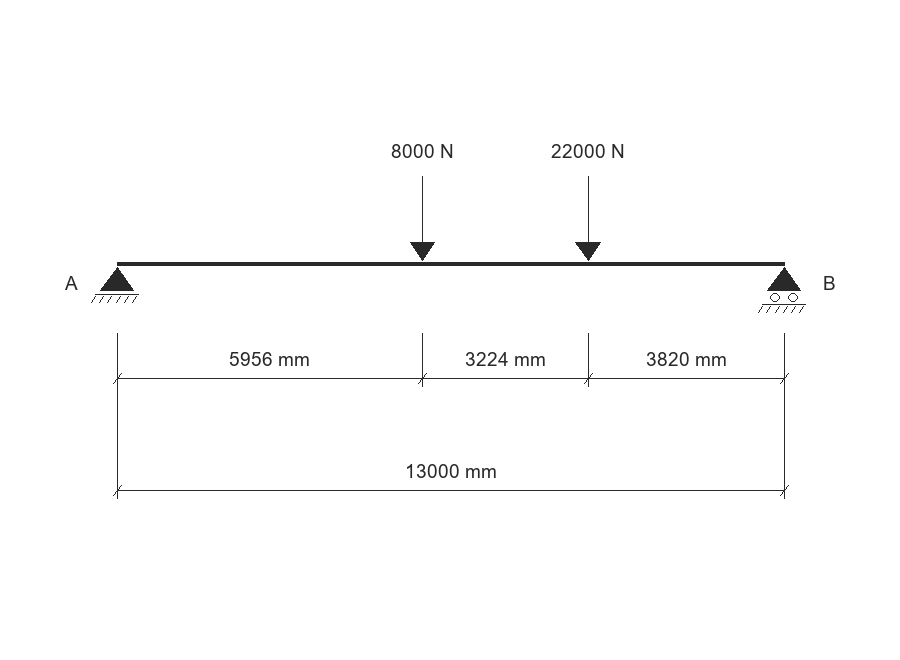pin_support: (91, 267, 139, 303)
point_load: (575, 176, 601, 261), (410, 176, 435, 261)
roller_support: (758, 267, 806, 313)
